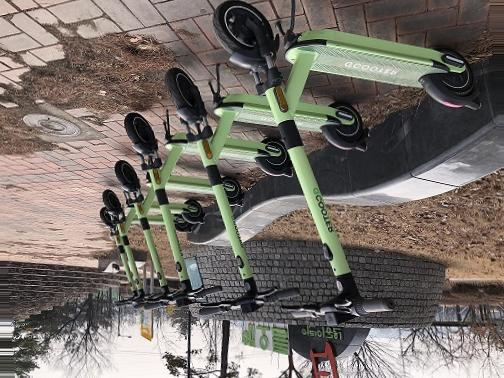scooter: (212, 1, 482, 325), (164, 67, 370, 316), (124, 109, 295, 310)
